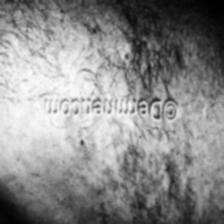Potentially Malignant Skin Tumors: (78, 117, 212, 224), (90, 36, 180, 98)
